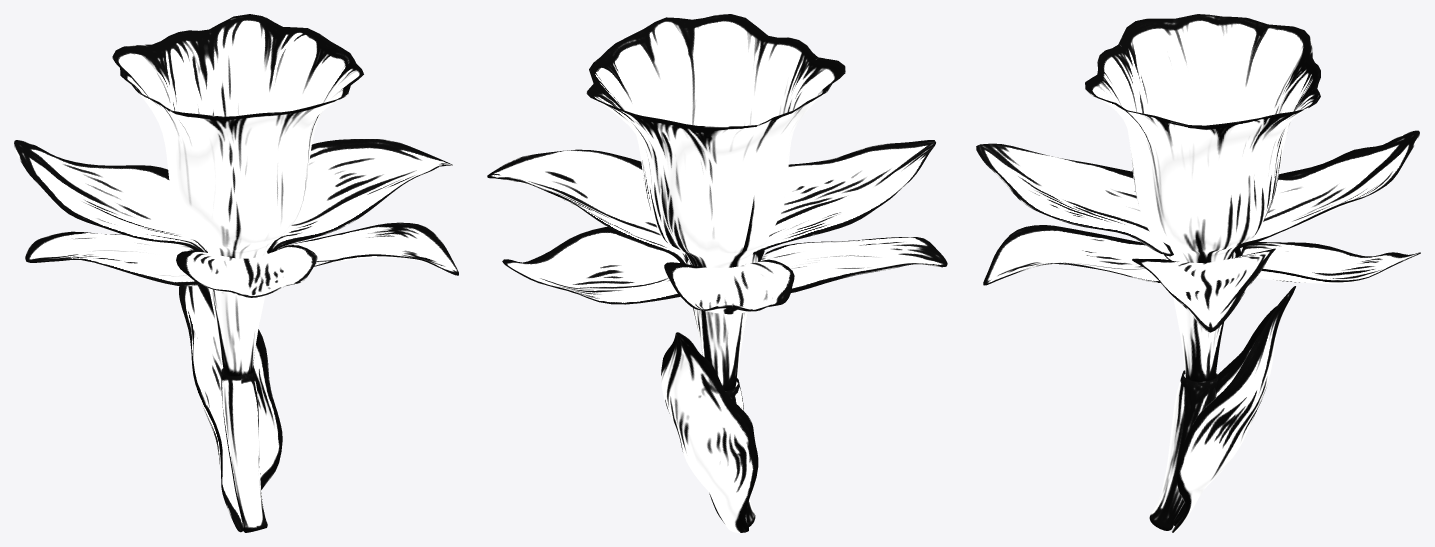
Rendered from Flower.gltf.
3 views of the same model, side by side, from view 1: azimuth 30°, elevation 25°; view 2: azimuth 150°, elevation 25°; view 3: azimuth 270°, elevation 25° (orthographic). The views are drawn at different scales.
Visible parts, largest first — view 1: Flower_expanded; view 2: Flower_expanded; view 3: Flower_expanded.
Part boxes in pixels (bbox=[...]): Flower_expanded: bbox=[14, 14, 458, 532]; Flower_expanded: bbox=[487, 14, 947, 532]; Flower_expanded: bbox=[976, 14, 1420, 532].
Bounding box in the file's own units: 1.93 × 1.93 × 1.67.
Materials: 1 (1 with a texture image).
